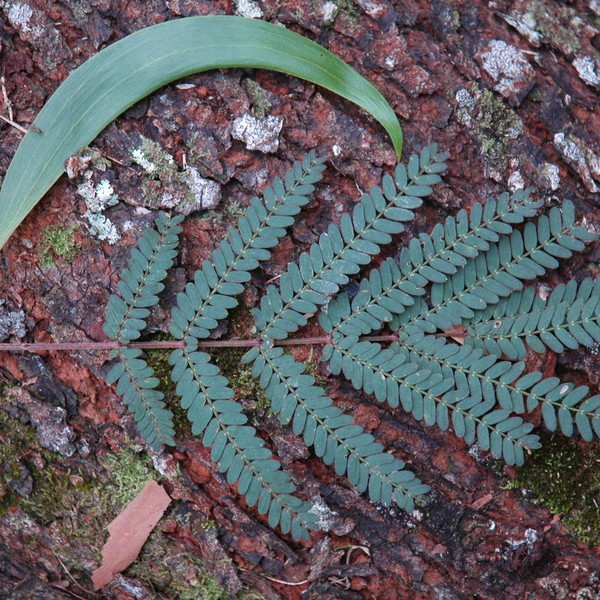obstacle: (64, 141, 571, 515)
